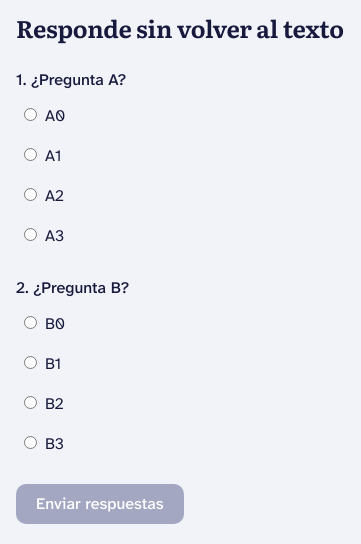
it: Quiz › no deja enviar hasta responder todas y entrega las respuestas en orden
Later steps or results of the test are not shown.
Expected: the button "Enviar respuestas" is disabled, [16,484,184,524]
Click the radio button labelled "A2": (30, 194) [24,188,37,201]
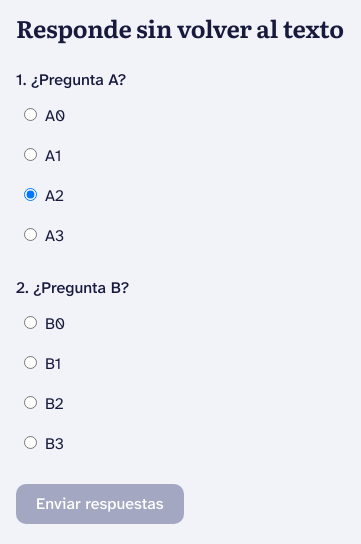
Expected: the button "Enviar respuestas" is disabled, [16,484,184,524]
Click the radio button labelled "B3": (30, 442) [24,436,37,449]
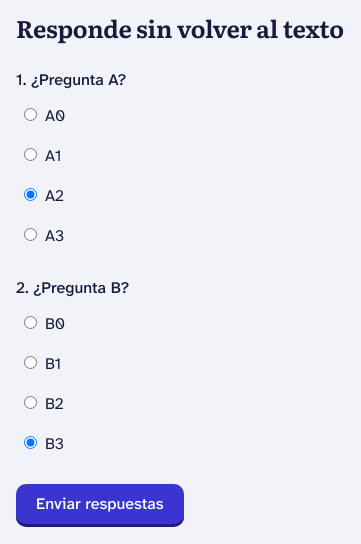
Now the button "Enviar respuestas" is enabled, box [16,484,184,524]
